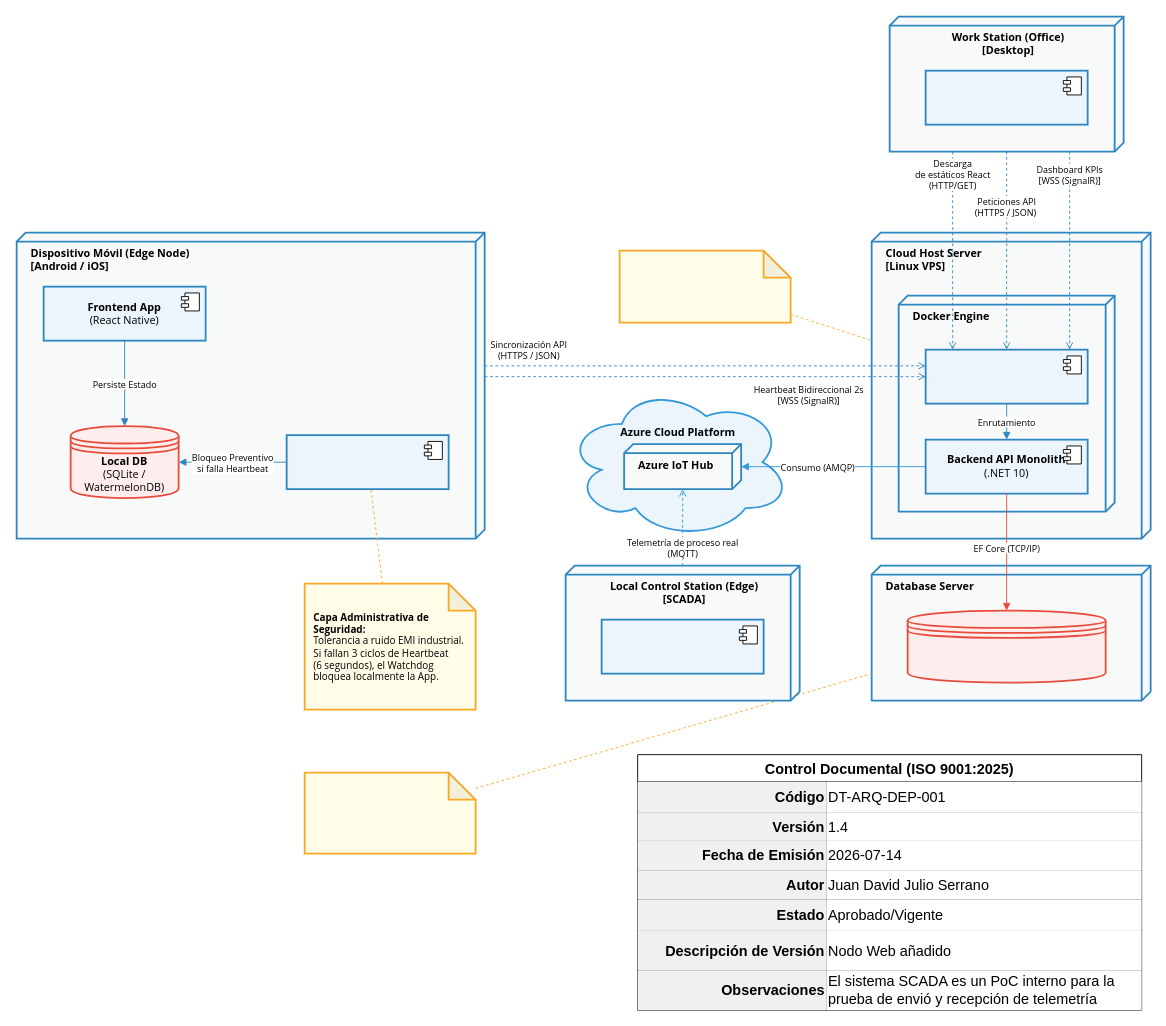
The diagram is 1166 pixels wide and 1026 high, and some of its shapes have lost their labels. The shapes that lost their labels are listed below. From the top down, each one's centre as x and y in pixels, then its label:
At point (1006, 97): "Web Admin Portal (React SPA)".
At point (704, 286): "Hospedado con créditos de estudiante (GitHub Student Pack / Heroku / Azure VM)".
At point (1006, 376): "Reverse Proxy & Statics Server (Nginx)".
At point (367, 462): "LOTO Watchdog (Background Thread)".
At point (682, 646): "Instrument/Sensor Emulator (SCADA Engine)".
At point (1006, 646): "PostgreSQL 16 + TimescaleDB Extension".
At point (389, 812): "Postgres administrado o contenedor vía créditos GitHub Student Pack".
